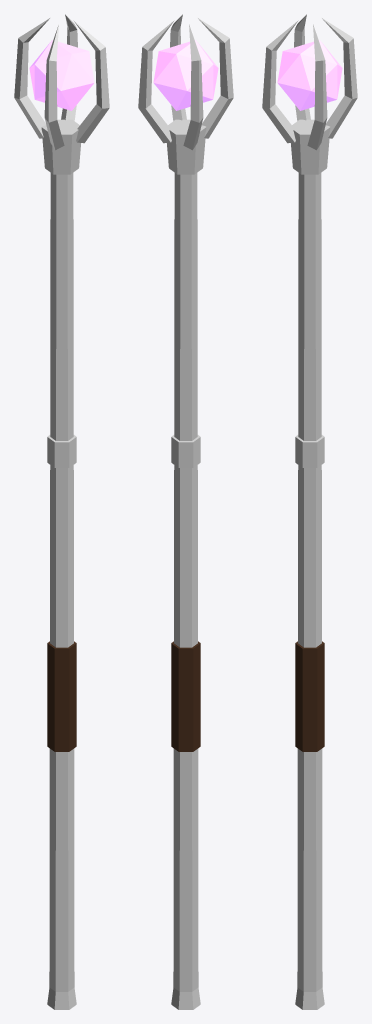
The model's file is weapon_staff.glb.
3 renders of one model, left to right at view 1: azimuth 30°, elevation 25°; view 2: azimuth 150°, elevation 25°; view 3: azimuth 330°, elevation 25°, orthographic.
Parts seen in each view (by area): view 1: weapon_staff; view 2: weapon_staff; view 3: weapon_staff.
Boxes of the visible parts, box(x1,y1,x2,y2) form: weapon_staff: box(14, 14, 109, 1009); weapon_staff: box(138, 14, 233, 1009); weapon_staff: box(262, 14, 357, 1009).
Size of the model in its own units: 0.1242 by 1.91 by 0.1247.
